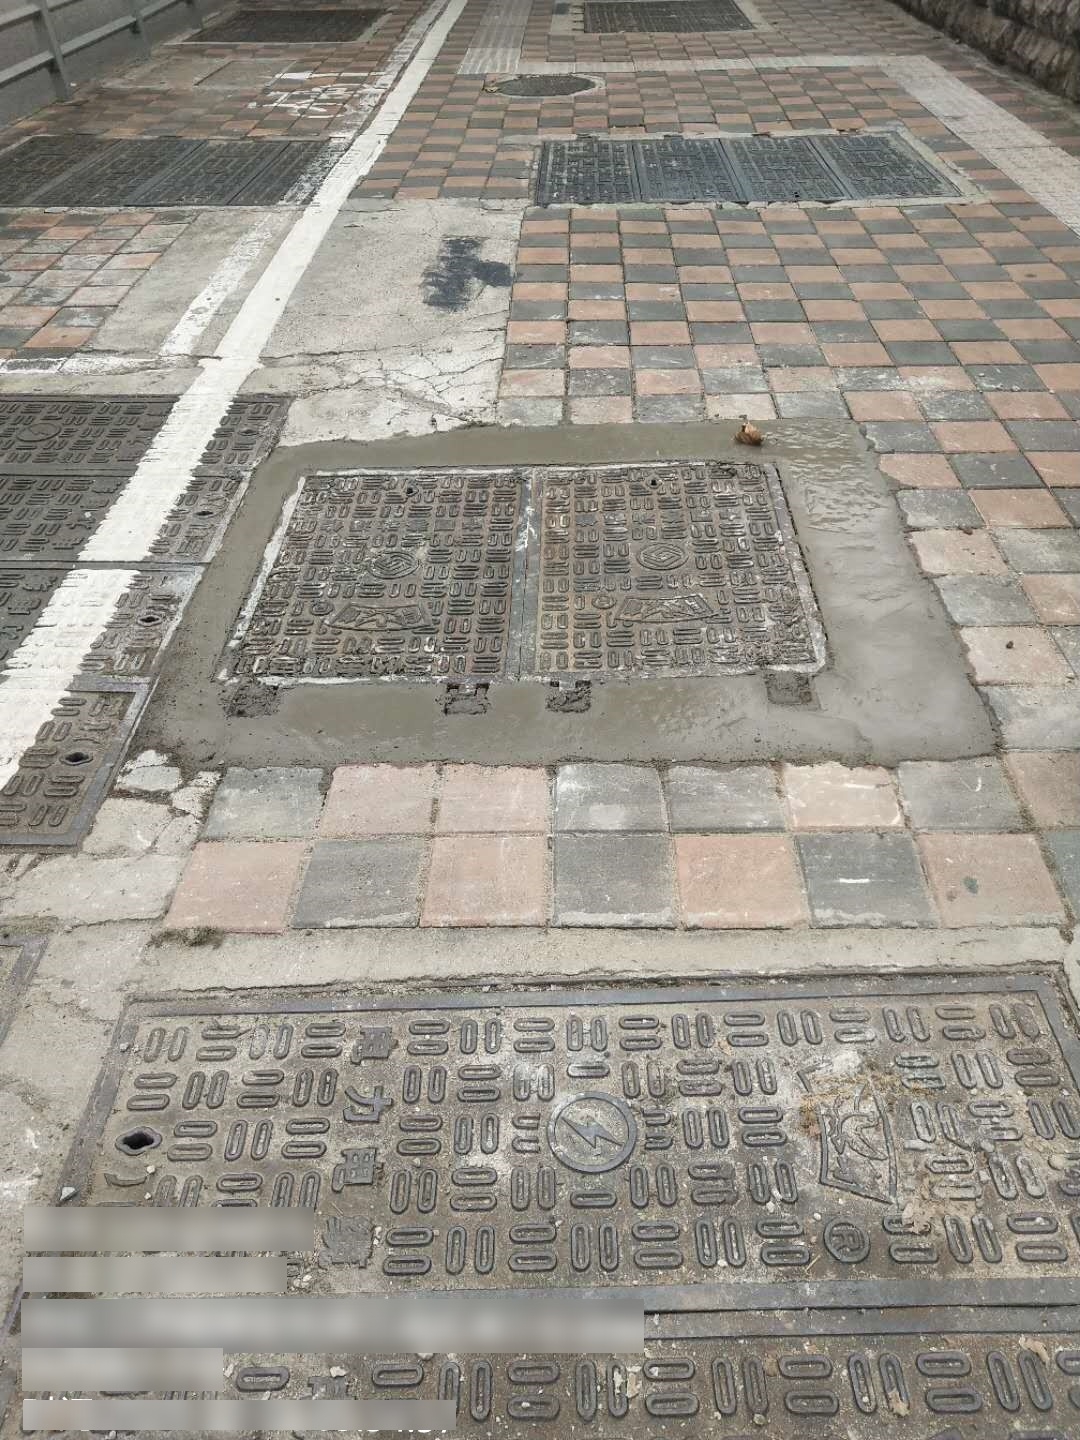well: (19, 940, 1077, 1297), (206, 454, 839, 702), (526, 118, 977, 213), (12, 126, 305, 210), (518, 0, 766, 39)
